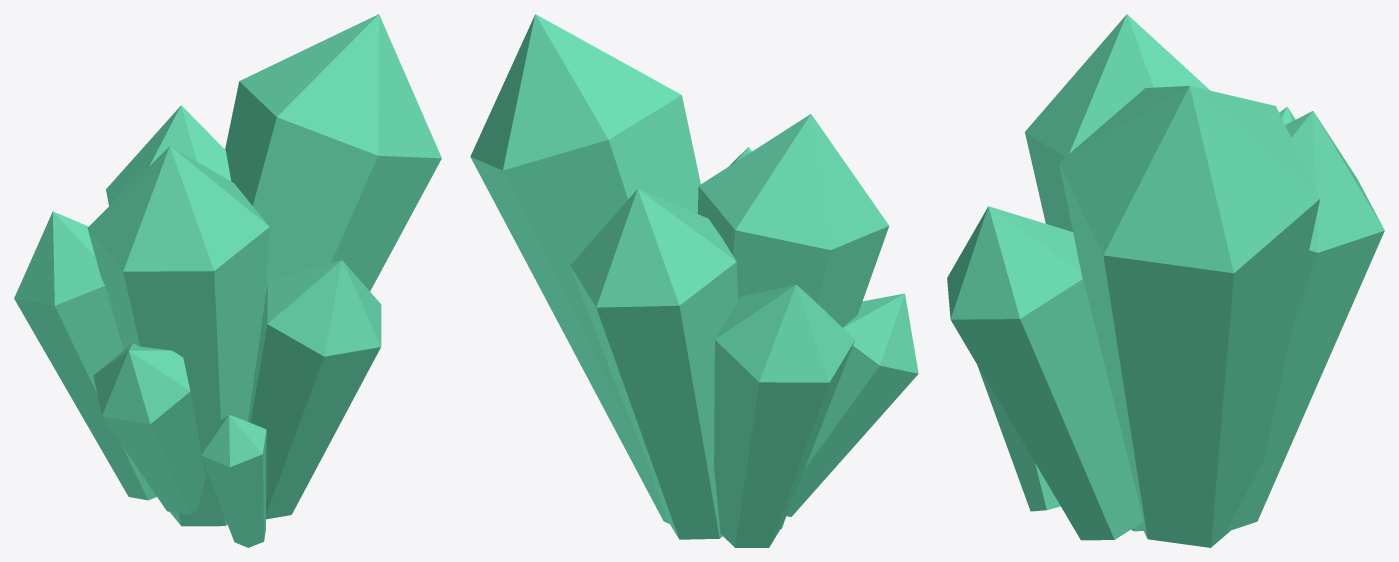
The model's file is Crystal_2.fbx.
The picture shows the model from 3 angles, left to right: view 1: azimuth 30°, elevation 25°; view 2: azimuth 150°, elevation 25°; view 3: azimuth 270°, elevation 25°; orthographic projection. The views are drawn at different scales.
Parts seen in each view (by area): view 1: Crystal_2; view 2: Crystal_2; view 3: Crystal_2.
Boxes of the visible parts, bbox=[...] form: Crystal_2: bbox=[14, 14, 441, 547]; Crystal_2: bbox=[470, 14, 918, 547]; Crystal_2: bbox=[947, 14, 1384, 547].
Size of the model in its own units: 210 by 246 by 178.
